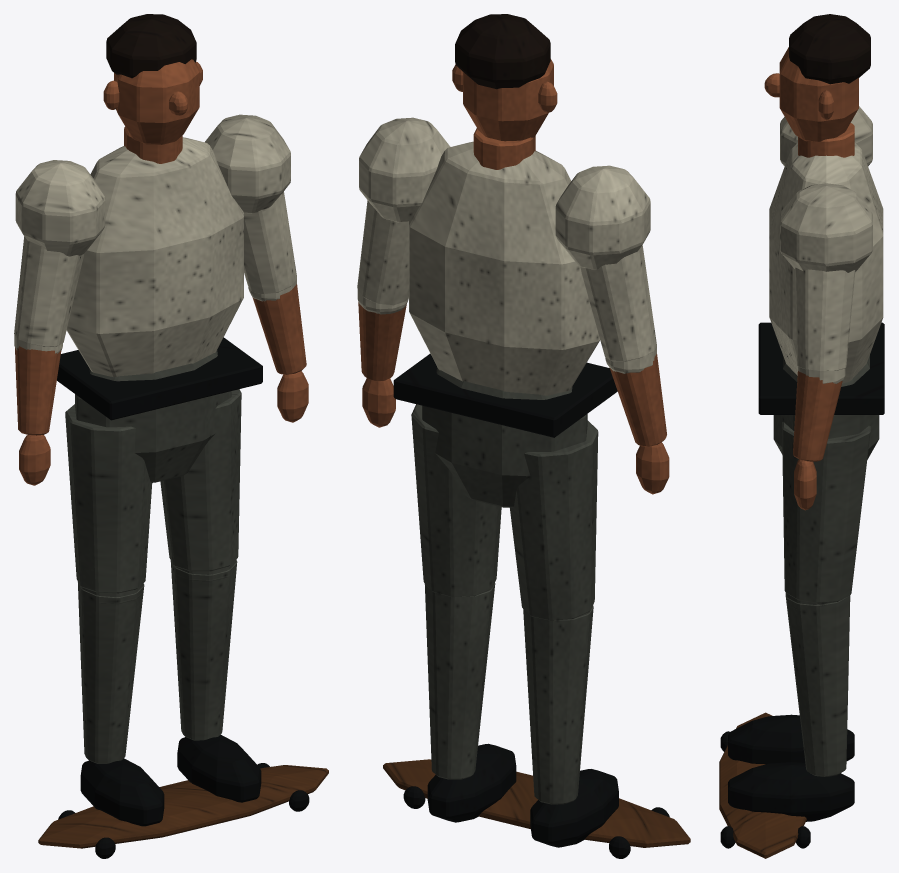
File: PROP-20E648B16FBA_lod1.glb
The picture shows the model from 3 angles, left to right: view 1: azimuth 30°, elevation 25°; view 2: azimuth 150°, elevation 25°; view 3: azimuth 270°, elevation 25°; orthographic projection. The views are drawn at different scales.
Visible parts, largest first — view 1: torso.053, thigh.052, calf.052, shoulder.053, upper_arm.053, skateboard_deck.002, shoe.052, belt.052, pelvis.052, forearm.053, head.052, hair_cap.052 (+5 smaller); view 2: torso.053, thigh.052, calf.052, shoulder.053, upper_arm.053, pelvis.052, shoe.052, belt.052, skateboard_deck.002, forearm.053, hair_cap.052, head.052 (+5 smaller); view 3: thigh.052, torso.053, calf.052, shoe.052, shoulder.053, upper_arm.053, belt.052, hair_cap.052, head.052, skateboard_deck.002, forearm.053, pelvis.052 (+5 smaller).
Part boxes in pixels (bbox=[...]): torso.053: bbox=[66, 137, 243, 377]; thigh.052: bbox=[65, 389, 241, 593]; calf.052: bbox=[77, 560, 237, 763]; shoulder.053: bbox=[15, 114, 290, 256]; upper_arm.053: bbox=[14, 191, 296, 346]; skateboard_deck.002: bbox=[38, 765, 328, 848]; shoe.052: bbox=[80, 734, 261, 826]; belt.052: bbox=[57, 337, 262, 420]; pelvis.052: bbox=[75, 350, 231, 482]; forearm.053: bbox=[15, 284, 306, 435]; head.052: bbox=[114, 59, 199, 144]; hair_cap.052: bbox=[106, 14, 196, 78]; torso.053: bbox=[409, 141, 599, 395]; thigh.052: bbox=[411, 404, 598, 620]; calf.052: bbox=[424, 583, 593, 804]; shoulder.053: bbox=[359, 117, 650, 269]; upper_arm.053: bbox=[357, 200, 656, 361]; pelvis.052: bbox=[422, 367, 587, 507]; shoe.052: bbox=[427, 743, 618, 847]; belt.052: bbox=[393, 353, 617, 437]; skateboard_deck.002: bbox=[383, 759, 690, 847]; forearm.053: bbox=[358, 302, 666, 446]; hair_cap.052: bbox=[455, 14, 550, 89]; head.052: bbox=[463, 59, 553, 141]; thigh.052: bbox=[782, 422, 870, 603]; torso.053: bbox=[769, 142, 883, 383]; calf.052: bbox=[785, 592, 850, 776]; shoe.052: bbox=[728, 714, 854, 821]; shoulder.053: bbox=[780, 106, 872, 272]; upper_arm.053: bbox=[795, 267, 855, 370]; belt.052: bbox=[758, 322, 884, 414]; hair_cap.052: bbox=[789, 14, 870, 84]; head.052: bbox=[779, 47, 858, 141]; skateboard_deck.002: bbox=[719, 712, 806, 858]; forearm.053: bbox=[793, 371, 842, 461]; pelvis.052: bbox=[773, 355, 879, 459].
Size of the model in its own units: 0.7168 by 1.85 by 0.3545.
Materials: 6 (6 with a texture image).
